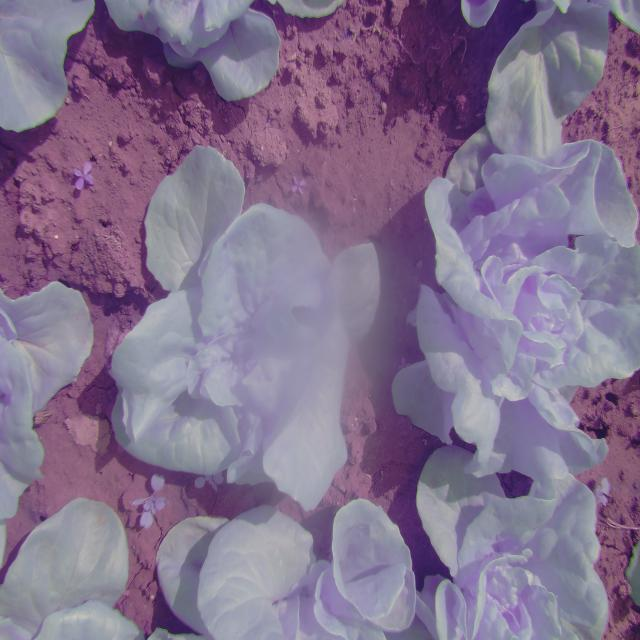vege: (108, 156, 384, 490)
